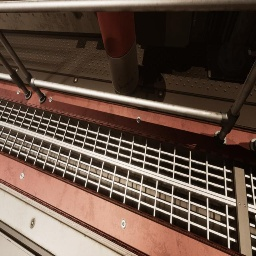NitrogenTank ,: (96, 12, 139, 96)
